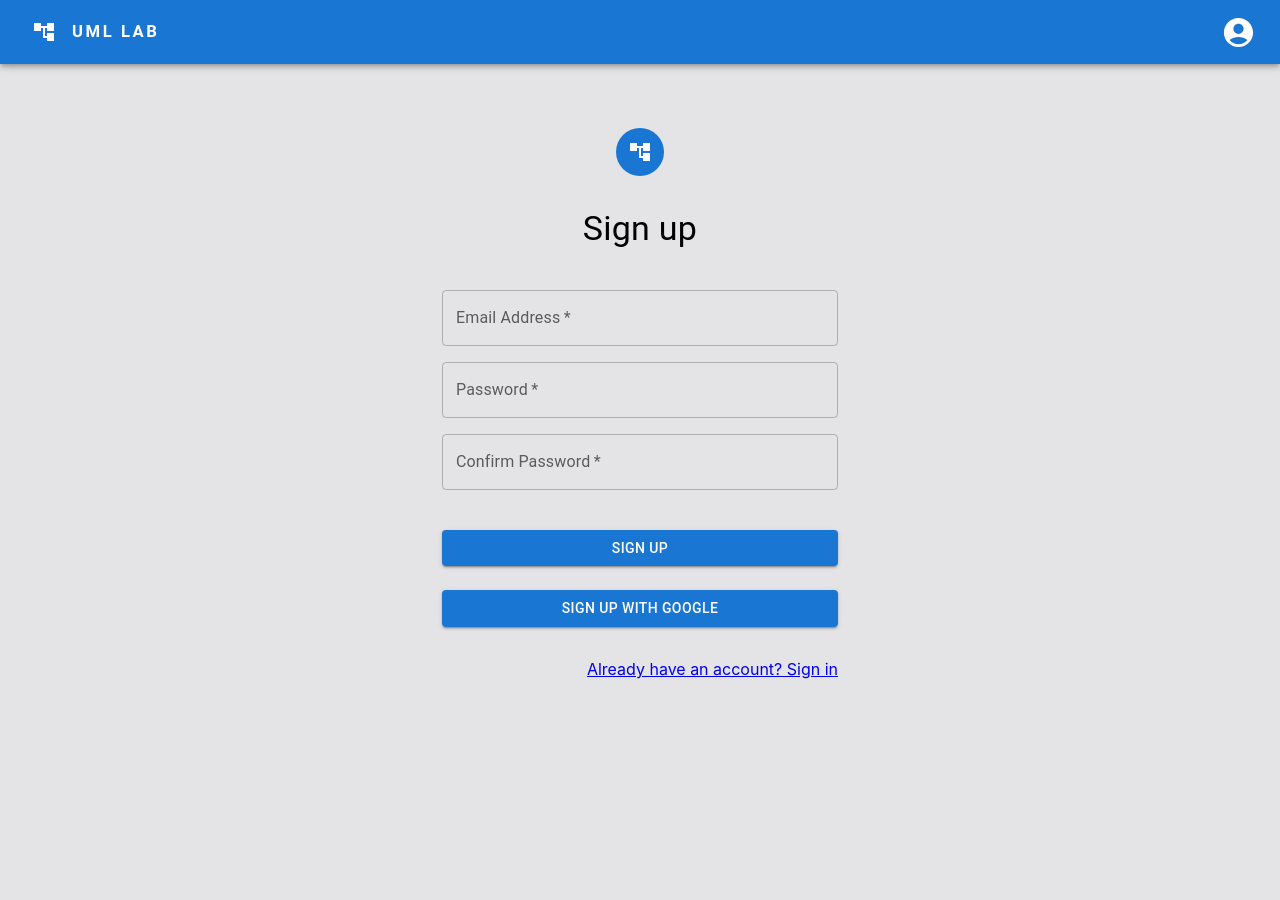
Test: Signup Testing › should display errors if input fields are invalid
Type "abc" into the field with test id "email-box".
click(640, 318); type("abc")  # box [442,290,838,346]
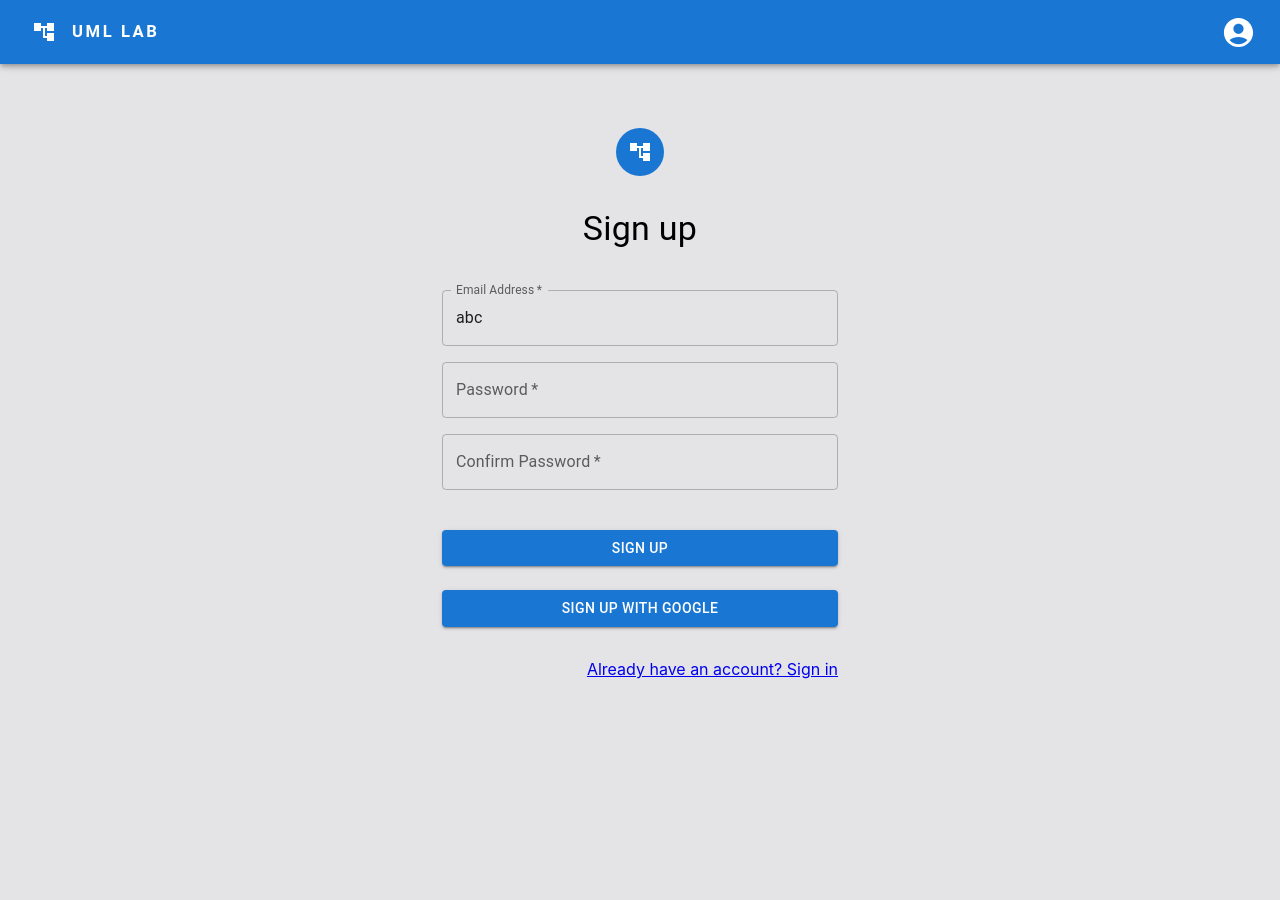
Type "p" into the password field with test id "password-box".
click(640, 390); type("p")  # box [442,362,838,418]
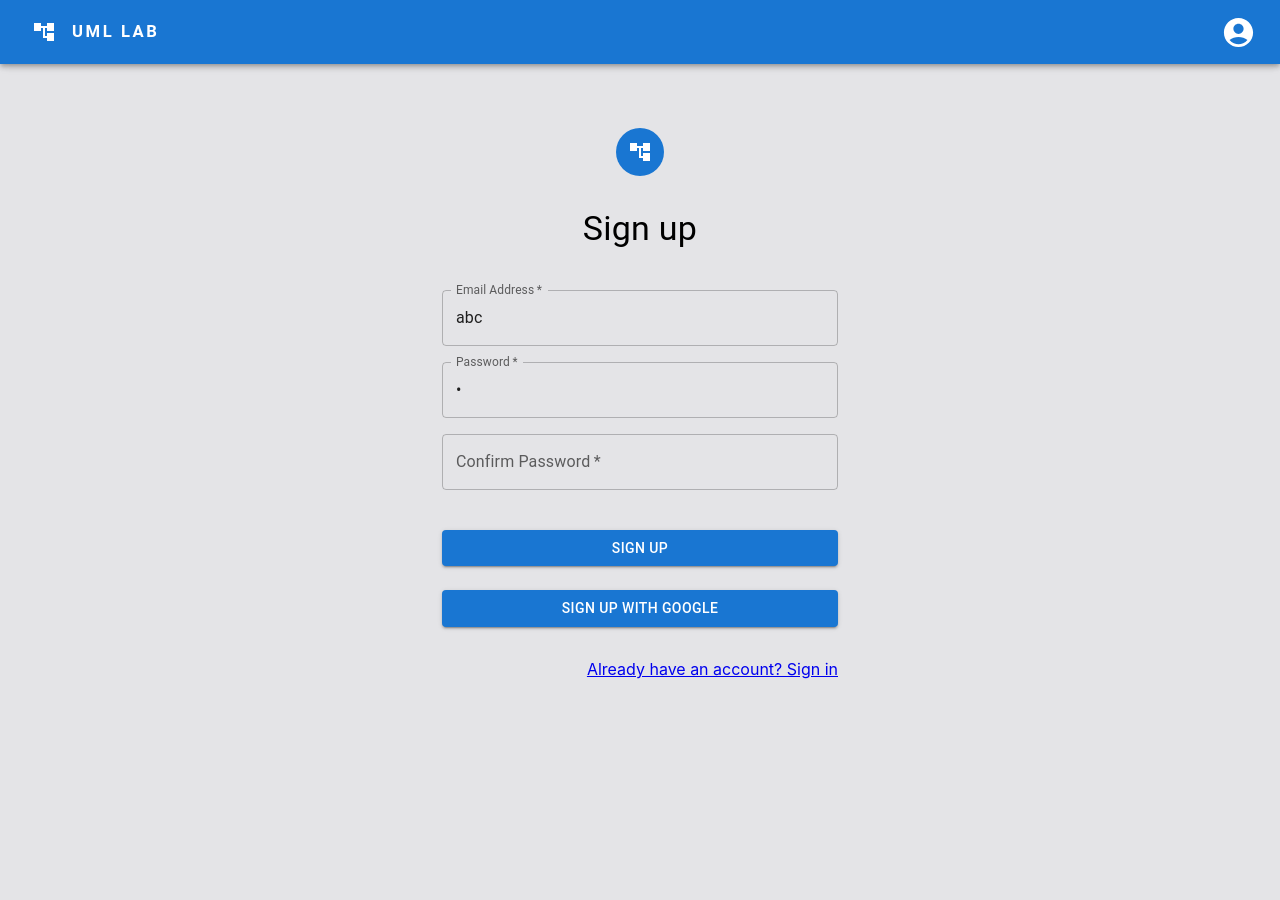
Type "password" into the password field with test id "cpassword-box".
click(640, 462); type("password")  # box [442,434,838,490]
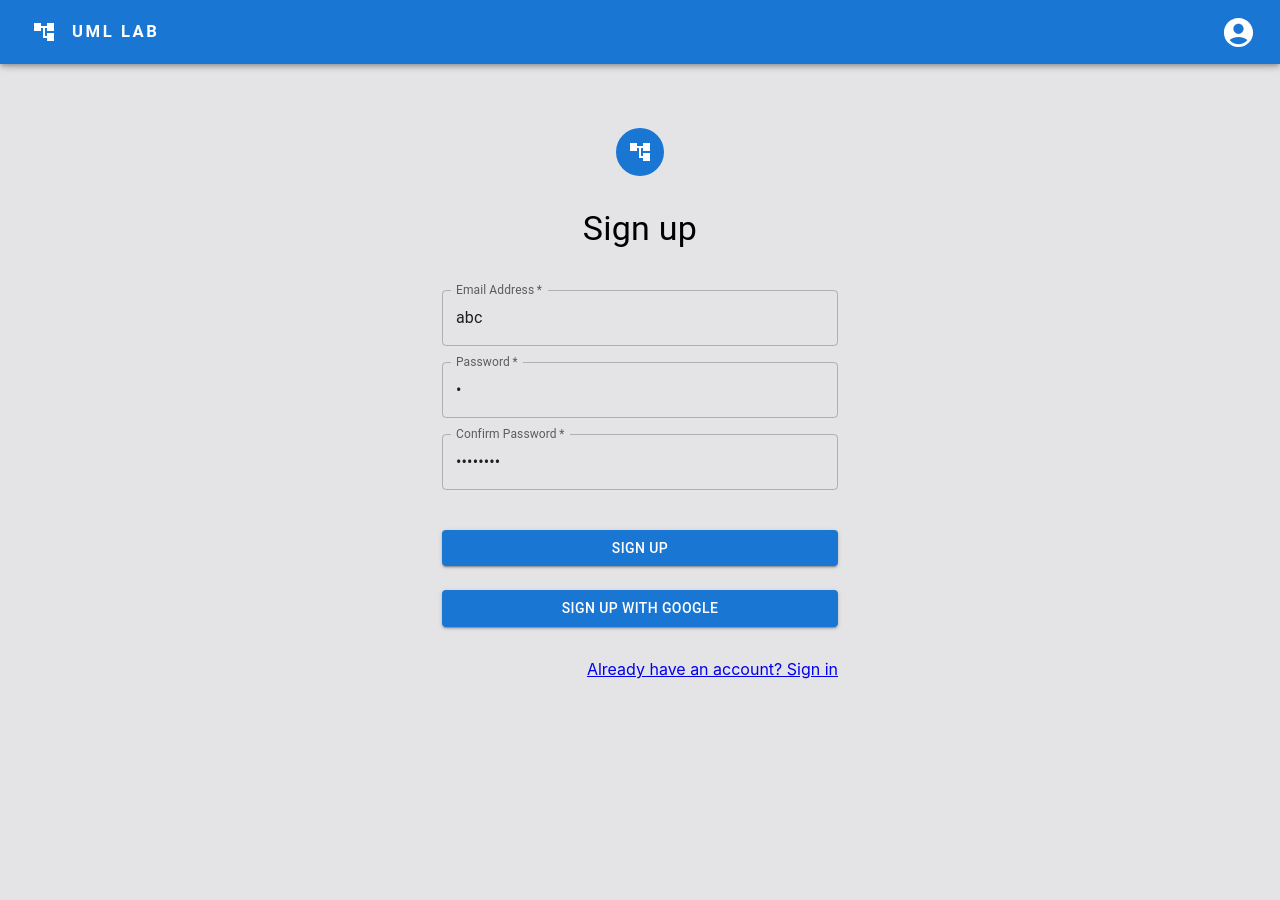
Click the button "Sign Up".
click(640, 548)  # box [442,530,838,566]
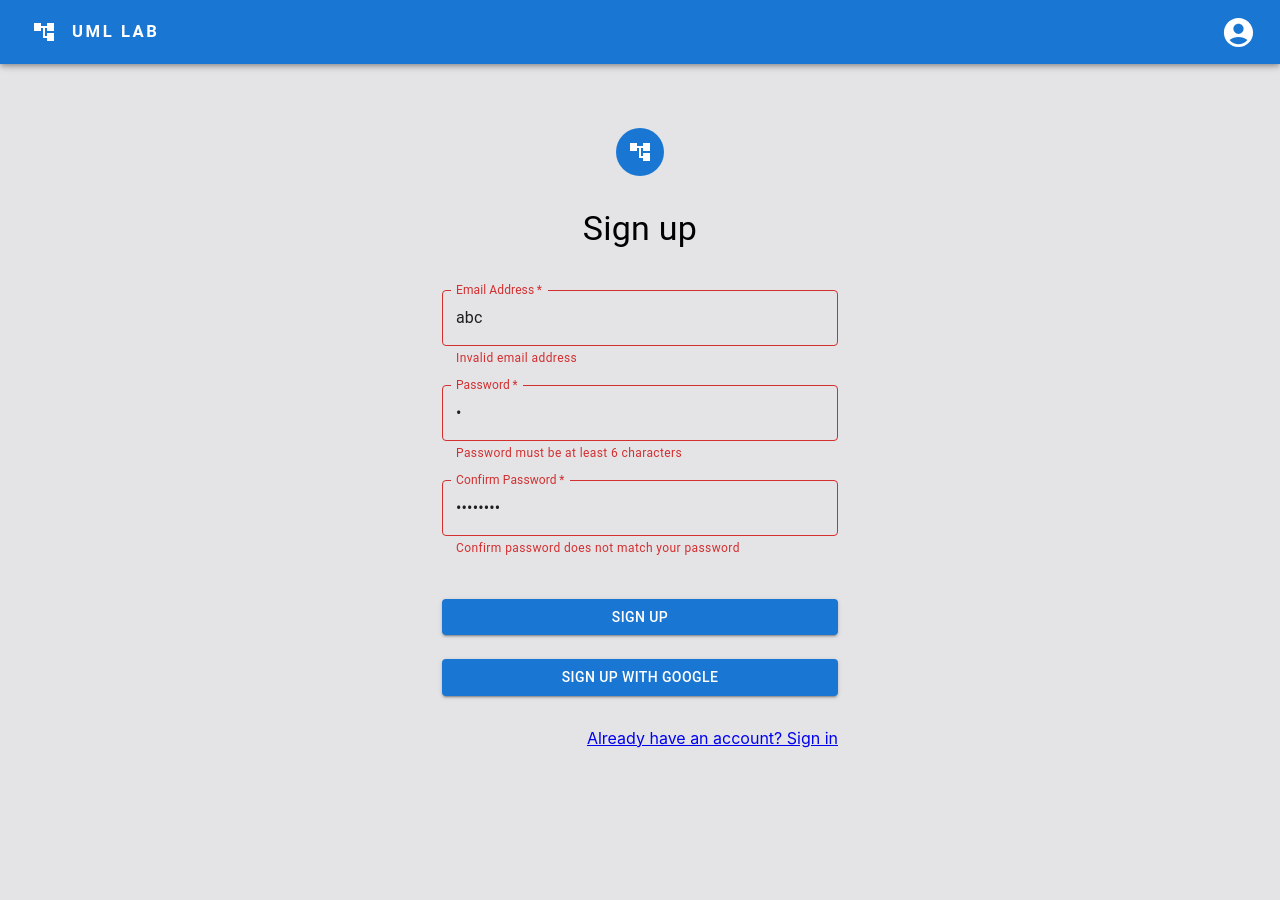
Expected: the text "Invalid email address" is shown, [456,351,577,365]
Expected: the text "Password must be at least 6 characters" is shown, [456,446,682,460]
Expected: the text "Confirm password does not match your password" is shown, [456,541,740,555]
